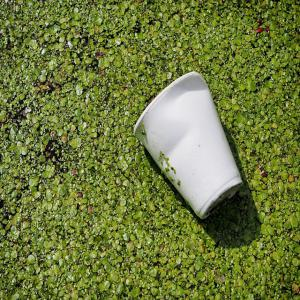Cup: (134, 72, 244, 222)
